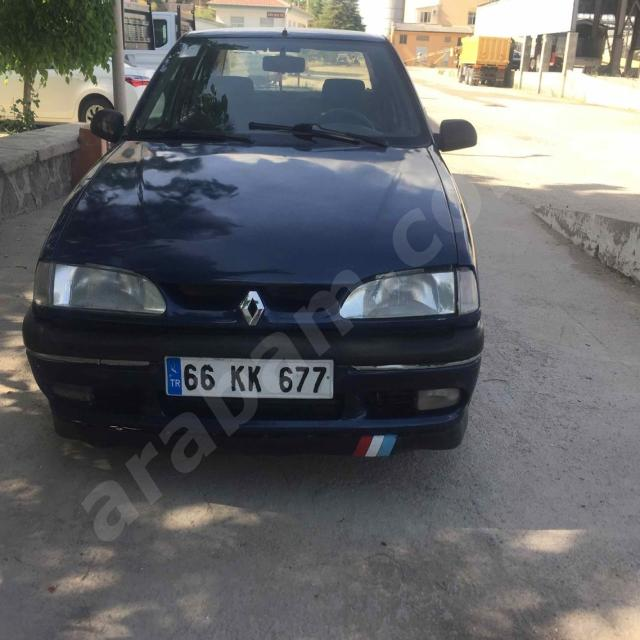license_plate: (164, 358, 334, 396)
